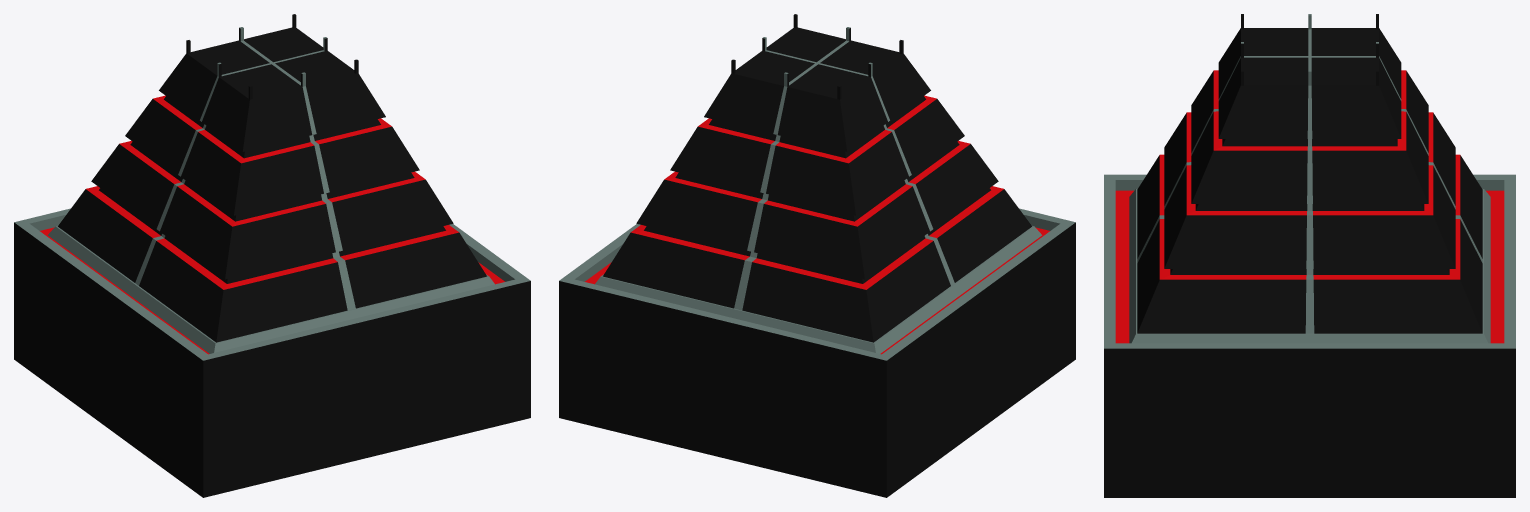
Rendered from Tiles.fbx.
The picture shows the model from 3 angles, left to right: view 1: azimuth 30°, elevation 25°; view 2: azimuth 150°, elevation 25°; view 3: azimuth 270°, elevation 25°; orthographic projection. The views are drawn at different scales.
Visible parts, largest first — view 1: Wall, Tile0, Tile4, Tile6, Tile5, TileB, TileE; view 2: Wall, Tile0, Tile4, Tile5, TileB, Tile6, TileE; view 3: Wall, Tile0, Tile4, Tile5, Tile6, TileB, TileE.
Part boxes in pixels (bbox=[...]): Wall: bbox=[58, 14, 486, 342]; Tile0: bbox=[14, 211, 530, 497]; Tile4: bbox=[14, 210, 530, 488]; Tile6: bbox=[33, 208, 501, 486]; Tile5: bbox=[33, 213, 501, 486]; TileB: bbox=[33, 210, 510, 487]; TileE: bbox=[33, 216, 493, 487]; Wall: bbox=[603, 14, 1031, 342]; Tile0: bbox=[559, 211, 1075, 497]; Tile4: bbox=[560, 210, 1056, 496]; Tile5: bbox=[579, 212, 1056, 488]; TileB: bbox=[580, 212, 1056, 487]; Tile6: bbox=[588, 208, 1056, 488]; TileE: bbox=[595, 219, 1056, 487]; Wall: bbox=[1137, 14, 1482, 333]; Tile0: bbox=[1104, 174, 1515, 497]; Tile4: bbox=[1104, 174, 1515, 497]; Tile5: bbox=[1104, 193, 1515, 497]; Tile6: bbox=[1104, 194, 1515, 497]; TileB: bbox=[1104, 193, 1515, 497]; TileE: bbox=[1104, 194, 1515, 497].
Bounding box in the file's own units: 100 × 98.63 × 100.
